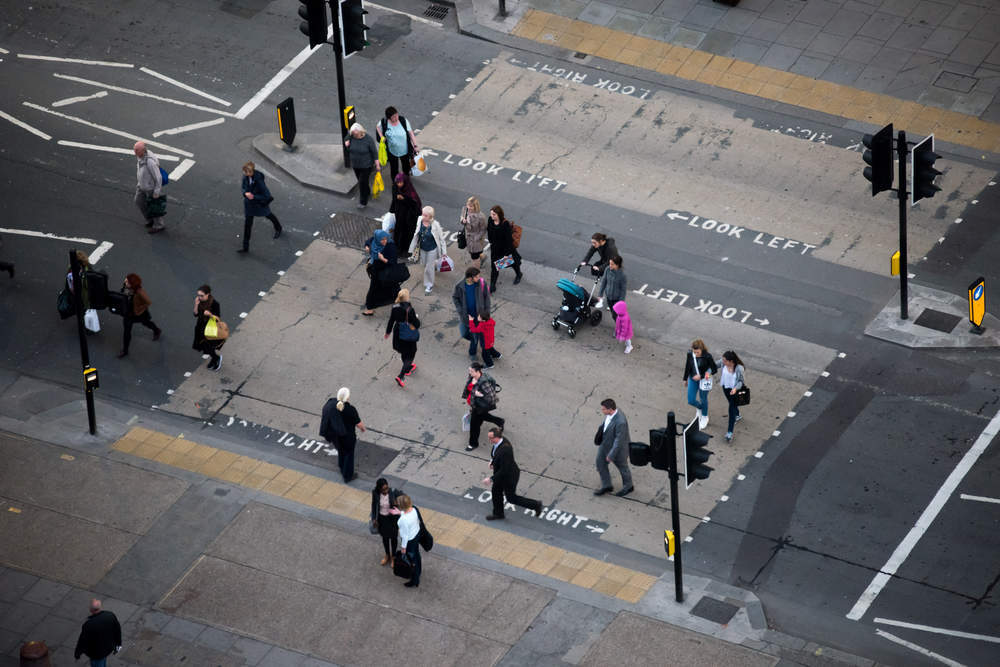person: (484, 425, 545, 525), (233, 160, 284, 254), (590, 399, 635, 499), (414, 203, 445, 295)
